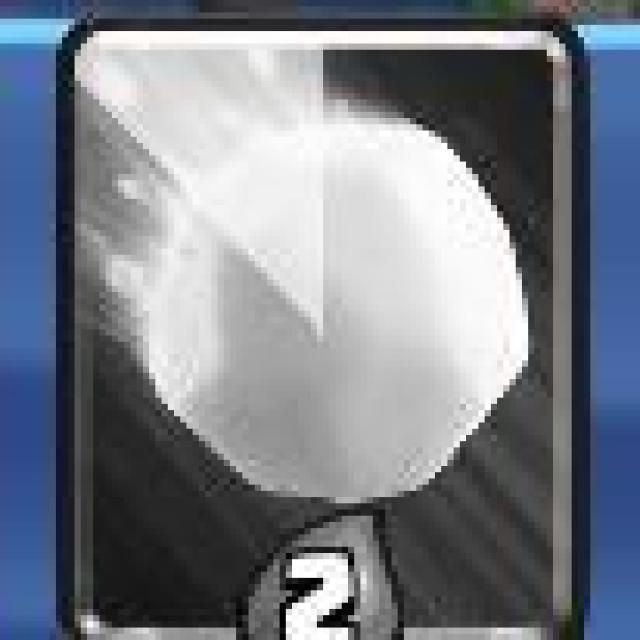Snowball: (56, 17, 582, 640)
